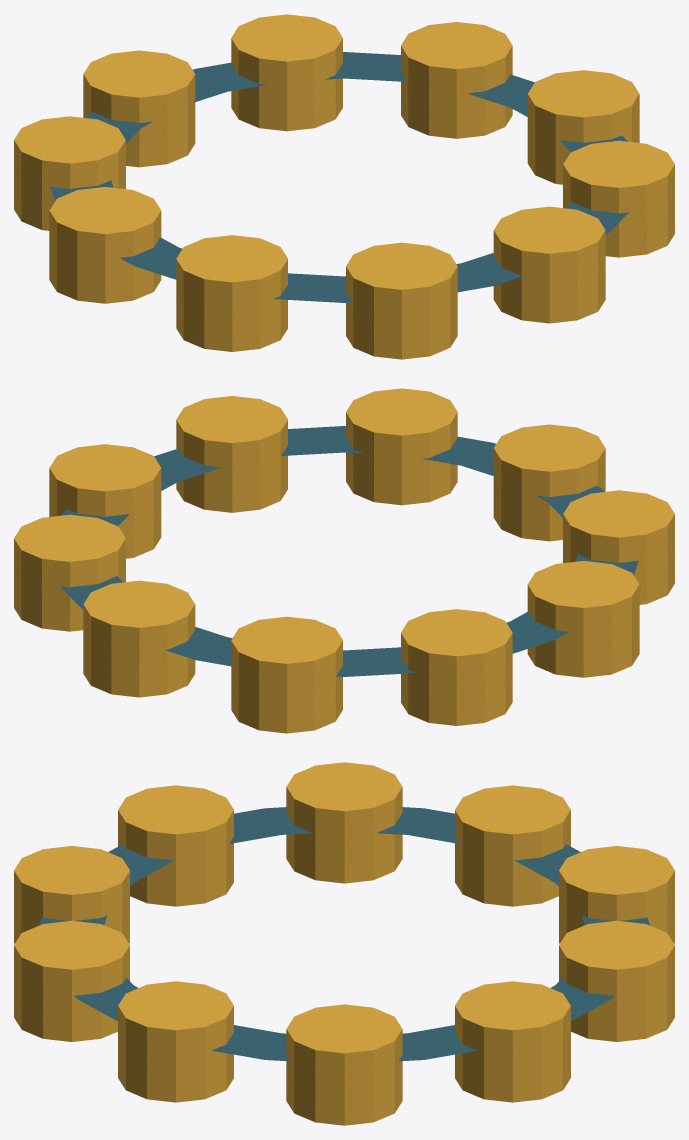
Rendered from reference_bracelet.gltf.
3 renders of one model, top to bottom at view 1: azimuth 30°, elevation 25°; view 2: azimuth 150°, elevation 25°; view 3: azimuth 270°, elevation 25°, orthographic. The views are drawn at different scales.
Parts seen in each view (by area): view 1: Bracelet; view 2: Bracelet; view 3: Bracelet.
Part boxes in pixels (x1,y1,x2,y2): Bracelet: (14,14,674,359); Bracelet: (14,388,674,733); Bracelet: (14,762,674,1125).
Size of the model in its own units: 0.19 by 0.022 by 0.1823.
2 materials, 2 textured.
